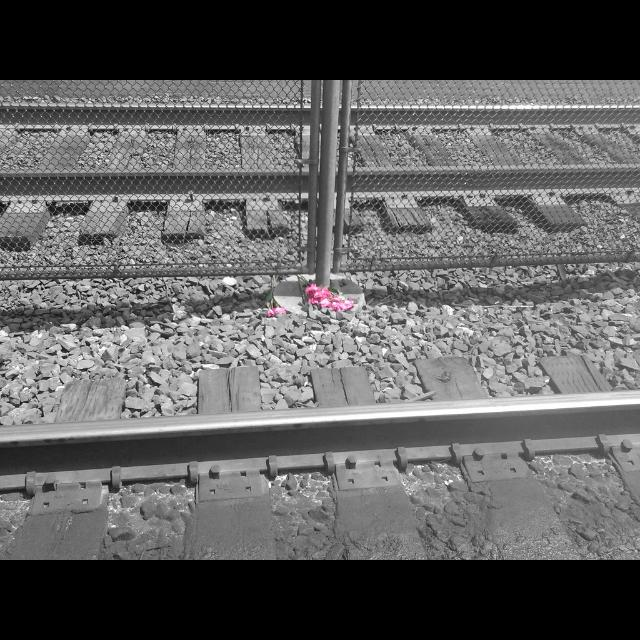Flower: (308, 280, 352, 314), (268, 307, 284, 317)
